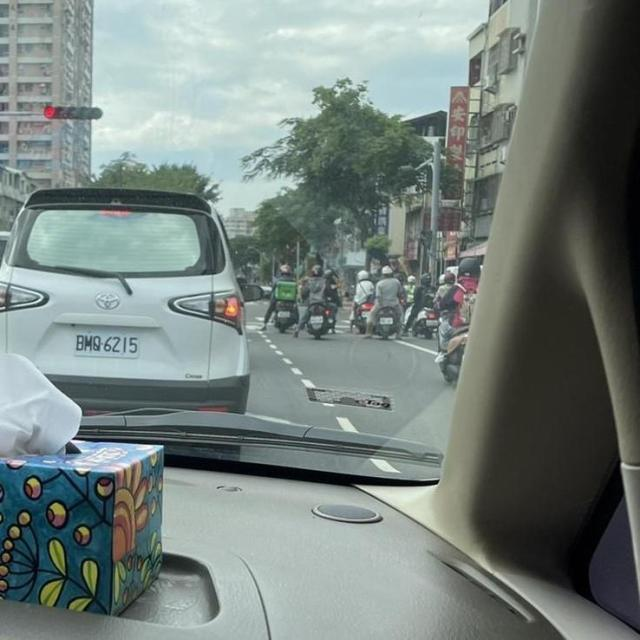W: (66, 322, 147, 363)
